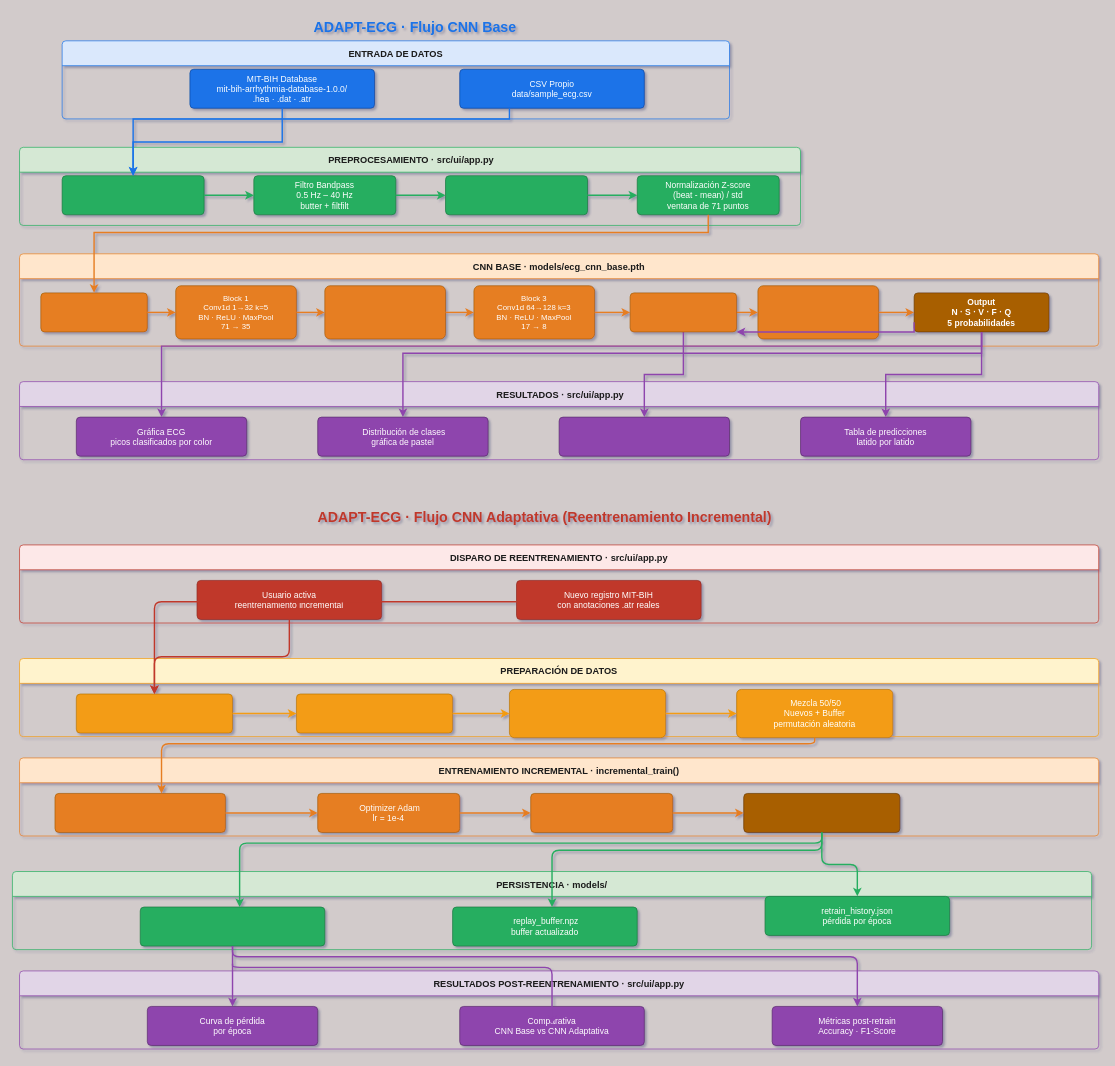
Image size: 1115x1066. Some labels were removed from this diagram. Here are the shapes that lost their labels. From the top down, the centre of each, then its label:
At pixel 132 195: "Lectura de señal wfdb.rdrecord() wfdb.rdann()".
At pixel 516 195: "Segmentación latidos ±35 muestras alrededor del pico R".
At pixel 93 312: "Input batch × 1 × 71".
At pixel 385 312: "Block 2 Conv1d 32→64 k=5 BN · ReLU · MaxPool 35 → 17".
At pixel 683 312: "🔹 AdaptiveAvgPool batch × 128".
At pixel 818 312: "🔸 Classifier Linear 128→64 · ReLU Dropout 0.5 Linear 64→5".
At pixel 644 436: "Métricas Accuracy · F1-Score".
At pixel 154 713: "Segmentación de nuevos latidos".
At pixel 374 713: "Etiquetas reales AAMI_MAP desde .atr".
At pixel 587 713: "Replay Buffer replay_buffer.npz máx. 2000 muestras".
At pixel 139 812: "Carga modelo ADAPT-ECG-RETRAINED.pth".
At pixel 601 812: "CrossEntropyLoss 5 épocas · batch 64".
At pixel 821 812: "Backpropagation actualización de pesos".
At pixel 232 926: "ADAPT-ECG-RETRAINED.pth modelo actualizado".
